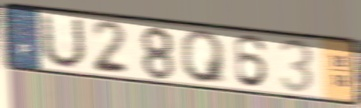2: (88, 19, 131, 76)
3: (278, 38, 319, 95)
6: (232, 34, 269, 91)
8: (138, 24, 176, 81)
Q: (178, 29, 229, 86)
U: (40, 11, 88, 71)
